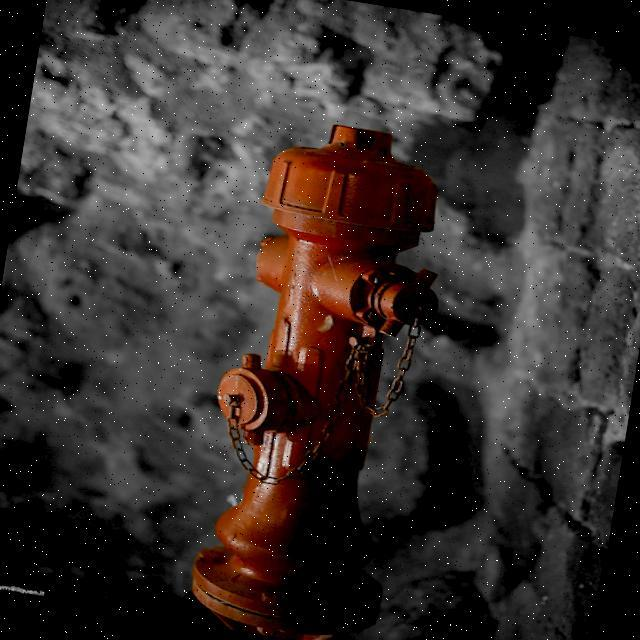fire_hydrant: (186, 102, 456, 638)
